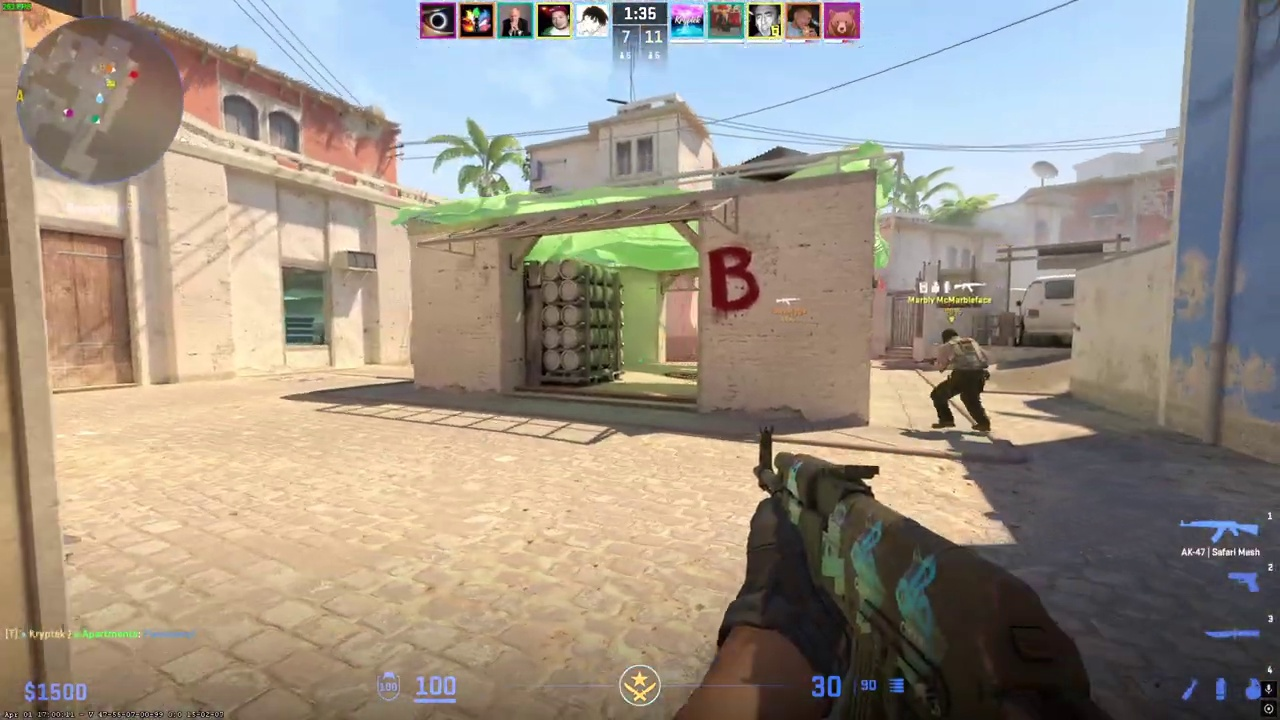Terrorist: (927, 326, 993, 436)
